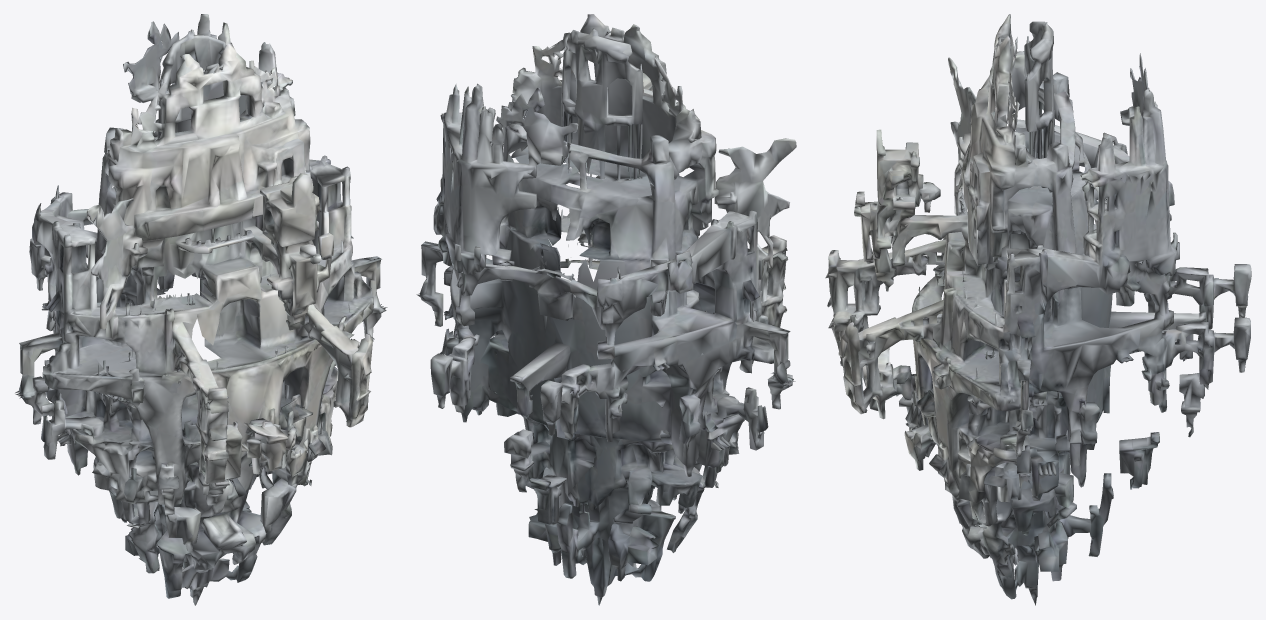
Rendered from skyruin_lite.glb.
3 views of the same model, side by side, from view 1: azimuth 30°, elevation 25°; view 2: azimuth 150°, elevation 25°; view 3: azimuth 270°, elevation 25° (orthographic). The views are drawn at different scales.
Visible parts, largest first — view 1: tripo_node_72b3df06-dd0b-4fe6-ba3a-df9ab20db1e4; view 2: tripo_node_72b3df06-dd0b-4fe6-ba3a-df9ab20db1e4; view 3: tripo_node_72b3df06-dd0b-4fe6-ba3a-df9ab20db1e4.
Boxes of the visible parts, <box> form: tripo_node_72b3df06-dd0b-4fe6-ba3a-df9ab20db1e4: <box>15,14,387,605</box>; tripo_node_72b3df06-dd0b-4fe6-ba3a-df9ab20db1e4: <box>416,14,796,605</box>; tripo_node_72b3df06-dd0b-4fe6-ba3a-df9ab20db1e4: <box>825,14,1251,605</box>.
Size of the model in its own units: 0.6629 by 0.9807 by 0.6496.
1 material, 1 textured.
